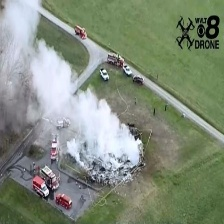smoke: (2, 1, 147, 172)
